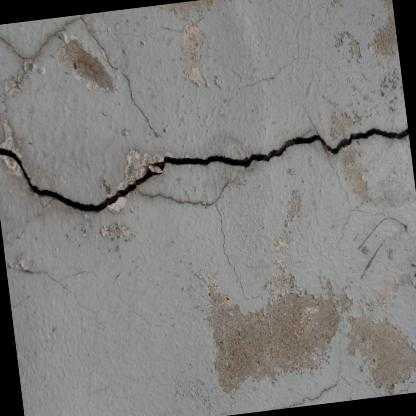crack: (153, 127, 408, 172), (0, 146, 158, 213)
